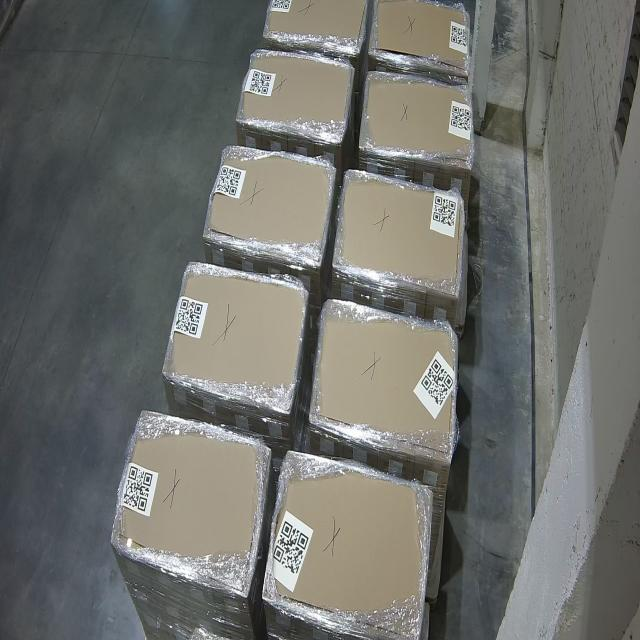pallet: (261, 449, 432, 640), (108, 408, 271, 600), (308, 300, 460, 458), (160, 261, 309, 414), (332, 172, 468, 295), (203, 146, 334, 272), (236, 49, 354, 147), (358, 72, 473, 164), (370, 0, 472, 75), (262, 0, 370, 59)
